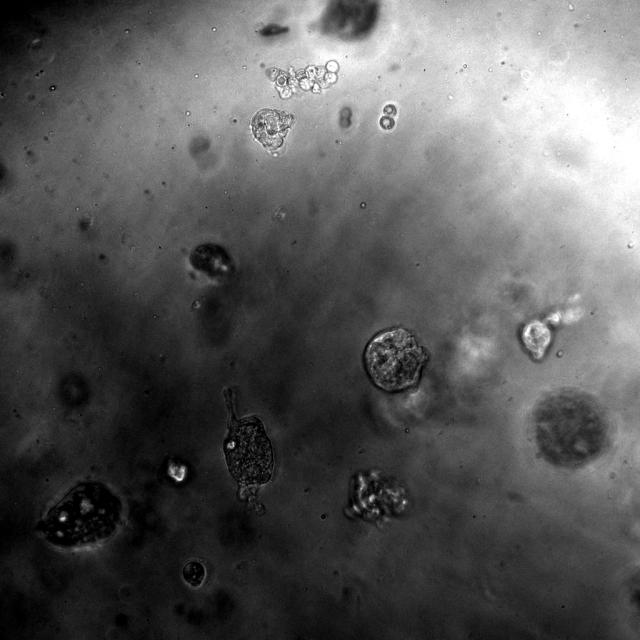organoid: (222, 387, 273, 515), (532, 389, 609, 467), (38, 481, 122, 549), (363, 326, 429, 393), (345, 470, 409, 525), (266, 59, 340, 100), (320, 0, 379, 41), (519, 311, 562, 361), (251, 108, 294, 154), (189, 242, 234, 281), (181, 559, 206, 589), (166, 456, 188, 484), (379, 103, 397, 131), (339, 106, 352, 128)
